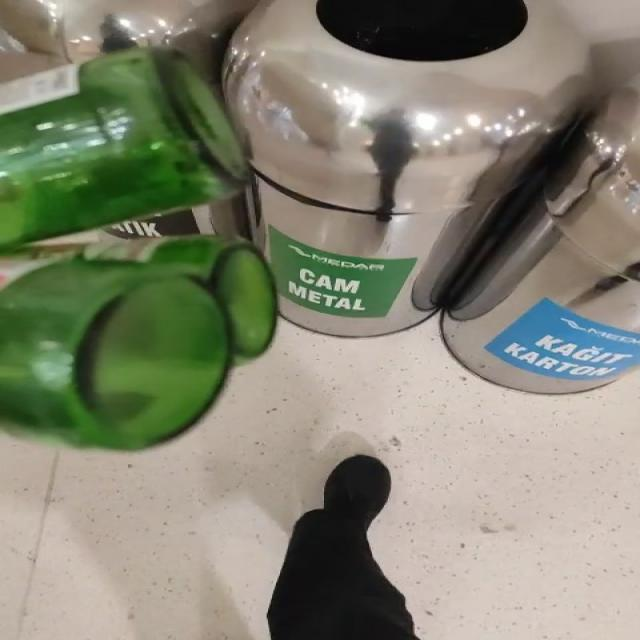Bin: (225, 0, 640, 393)
Glass: (1, 48, 276, 450)
